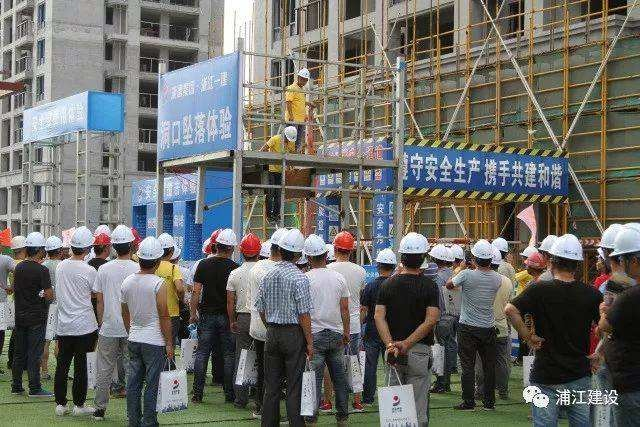red: (331, 229, 355, 261), (522, 250, 548, 278), (238, 232, 262, 262), (90, 230, 112, 259)
white: (610, 218, 640, 283), (547, 231, 583, 276), (397, 229, 426, 271), (133, 235, 163, 274), (302, 231, 330, 270), (277, 226, 305, 262), (67, 223, 92, 259), (109, 222, 134, 257), (469, 237, 494, 270), (373, 246, 398, 278), (23, 229, 45, 260), (214, 226, 236, 257), (157, 230, 176, 261), (429, 241, 449, 269), (44, 235, 63, 261), (281, 123, 297, 144), (296, 66, 310, 89)
